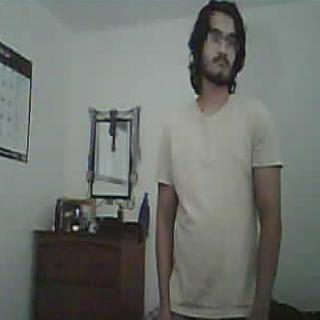Yellow T-Shirt: (160, 96, 284, 315)
